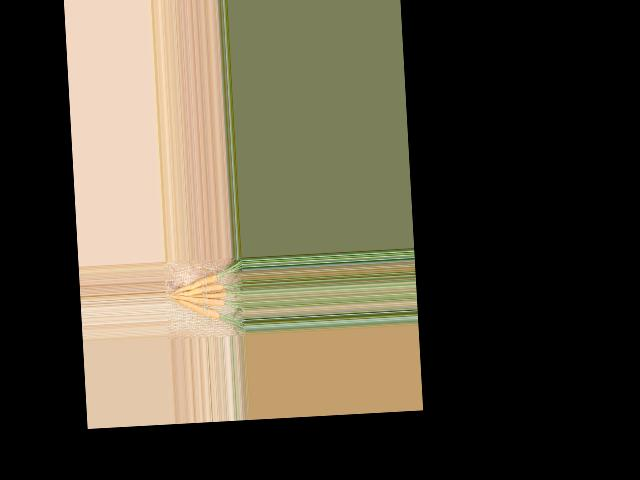carrot: (175, 273, 218, 292)
